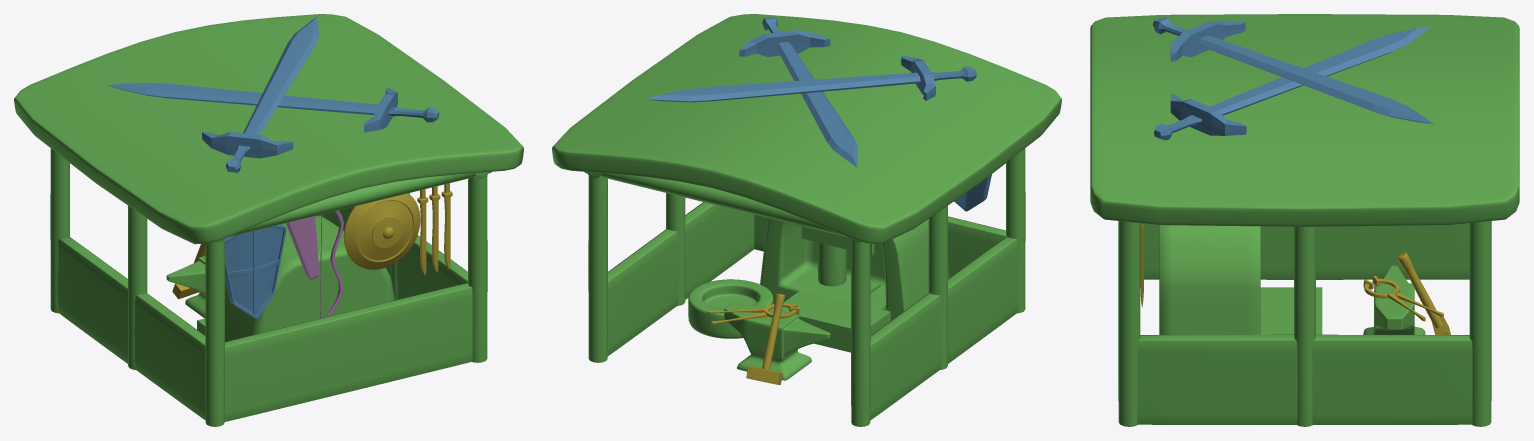
File: SwordTower.fbx
The picture shows the model from 3 angles, left to right: view 1: azimuth 30°, elevation 25°; view 2: azimuth 150°, elevation 25°; view 3: azimuth 270°, elevation 25°; orthographic projection. The views are drawn at different scales.
Visible parts, largest first — view 1: pCube42, pCube53, pCube52, pCylinder10, sword3, pCylinder26, sword2, pCylinder30, pCube46, pCylinder19, pCylinder35, pCube33 (+8 smaller); view 2: pCube42, pCube52, pCube33, pCylinder10, sword3, sword2, pCube29, pCylinder34, pCylinder33, pCylinder13, pCylinder38, pCube30 (+9 smaller); view 3: pCube42, pCube33, pCylinder10, pCube52, sword3, sword2, pCylinder34, pCylinder19, pCylinder32, pCube29, pCube30, pCube49 (+2 smaller).
Part boxes in pixels (box(x1,y1,x2,y2)): pCube42: box(14, 14, 523, 244); pCube53: box(224, 283, 472, 421); pCube52: box(58, 236, 205, 420); pCylinder10: box(225, 216, 394, 341); sword3: box(202, 16, 318, 172); pCylinder26: box(343, 193, 420, 269); sword2: box(106, 82, 439, 132); pCylinder30: box(205, 240, 224, 426); pCube46: box(224, 224, 286, 319); pCylinder19: box(468, 175, 487, 362); pCylinder35: box(229, 171, 491, 236); pCube33: box(320, 206, 467, 299); pCube42: box(552, 14, 1061, 244); pCube52: box(870, 236, 1017, 420); pCube33: box(607, 202, 754, 355); pCylinder10: box(760, 218, 949, 320); sword3: box(645, 55, 976, 102); sword2: box(739, 16, 858, 167); pCube29: box(724, 303, 830, 380); pCylinder34: box(588, 175, 607, 362); pCylinder33: box(851, 240, 870, 426); pCylinder13: box(688, 279, 773, 338); pCylinder38: box(584, 171, 846, 236); pCube30: box(781, 290, 890, 352); pCube42: box(1090, 14, 1519, 226); pCube33: box(1137, 334, 1472, 424); pCylinder10: box(1159, 225, 1260, 334); pCube52: box(1144, 223, 1469, 279); sword3: box(1153, 17, 1433, 123); sword2: box(1154, 26, 1432, 140); pCylinder34: box(1469, 221, 1491, 426); pCylinder19: box(1118, 221, 1140, 426); pCylinder32: box(1294, 227, 1315, 426); pCube29: box(1363, 265, 1425, 334); pCube30: box(1260, 287, 1322, 334); pCube49: box(1397, 252, 1442, 328).
Bounding box in the file's own units: 2.56 × 1.77 × 2.39.
